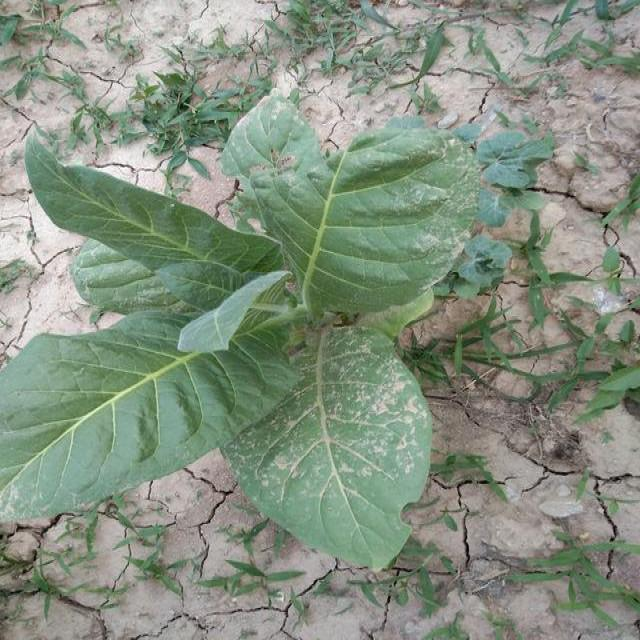crop: (2, 70, 484, 595)
